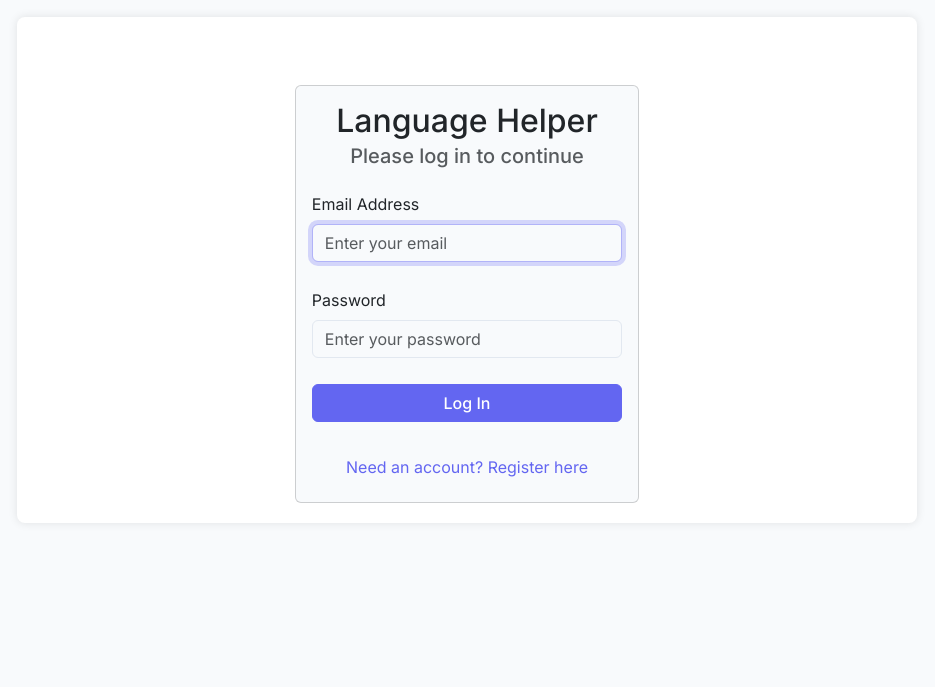
Test: Login Component › should show success message after successful registration
Note: Switch to registration mode
Click the button "Need an account? Register here" at (467, 467), box [333,448,601,486]
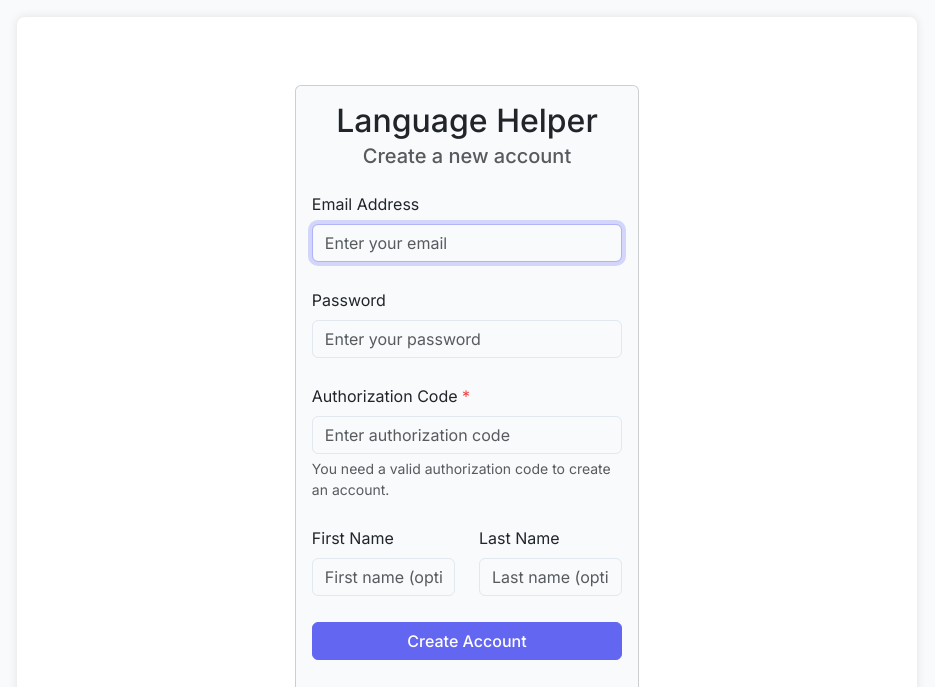
Note: Fill out the form
Type "test@example.com" into the field labelled "Email Address" at (467, 243), box [312,224,622,262]
Type "TestPassword123!" into the password field labelled "Password" at (467, 339), box [312,320,622,358]
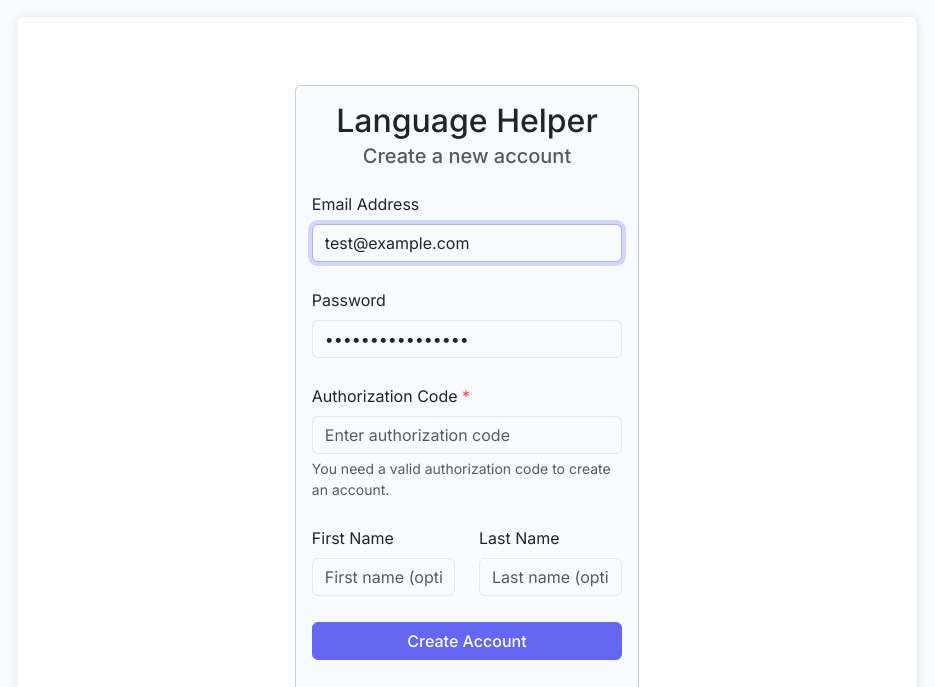
Type "test" into the field labelled "Authorization Code *" at (467, 435), box [312,416,622,454]
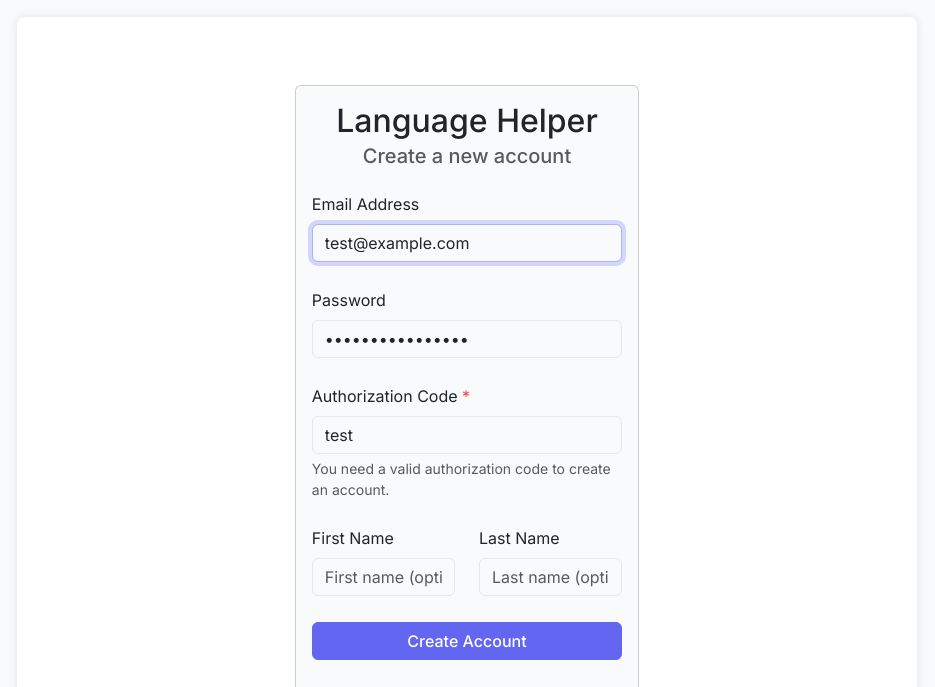
Type "Test" into the field labelled "First Name" at (383, 577), box [312,558,455,596]
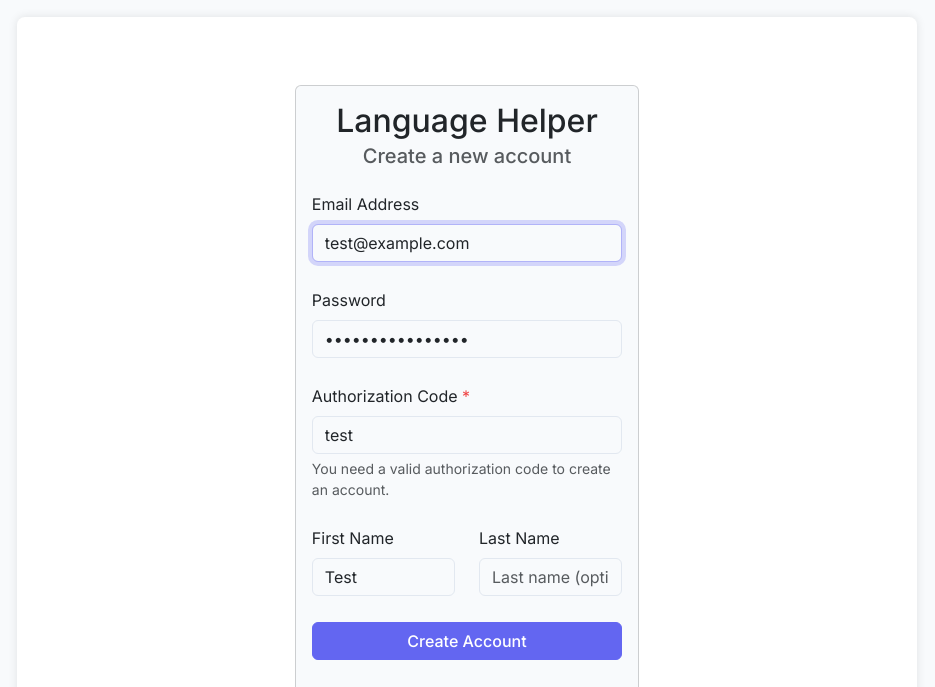
Type "User" into the field labelled "Last Name" at (551, 577), box [479,558,622,596]
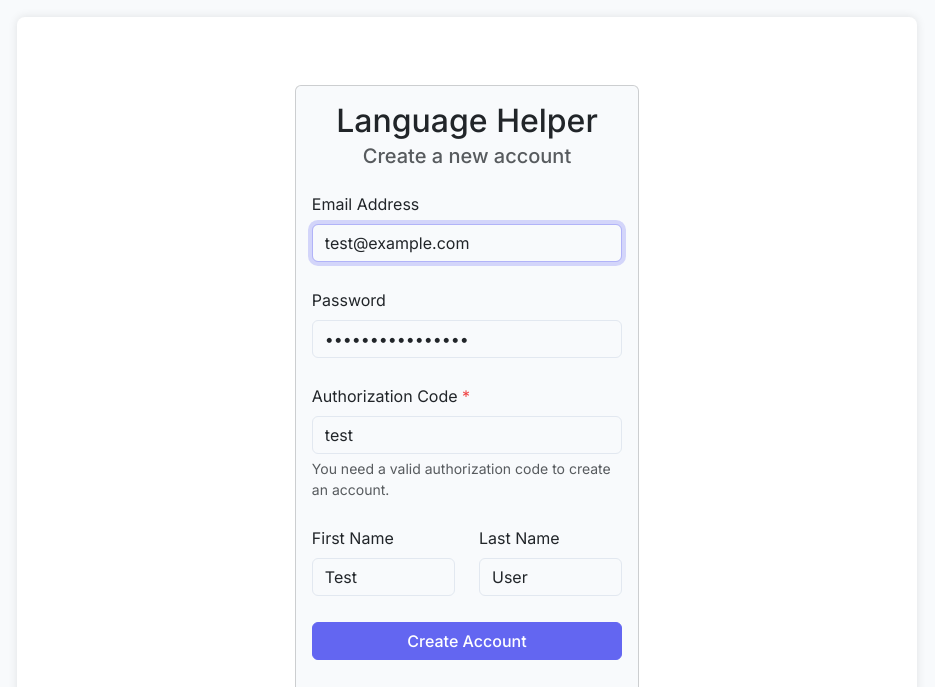
Note: Submit the form
Click the button "Create Account" at (467, 641), box [312,622,622,660]
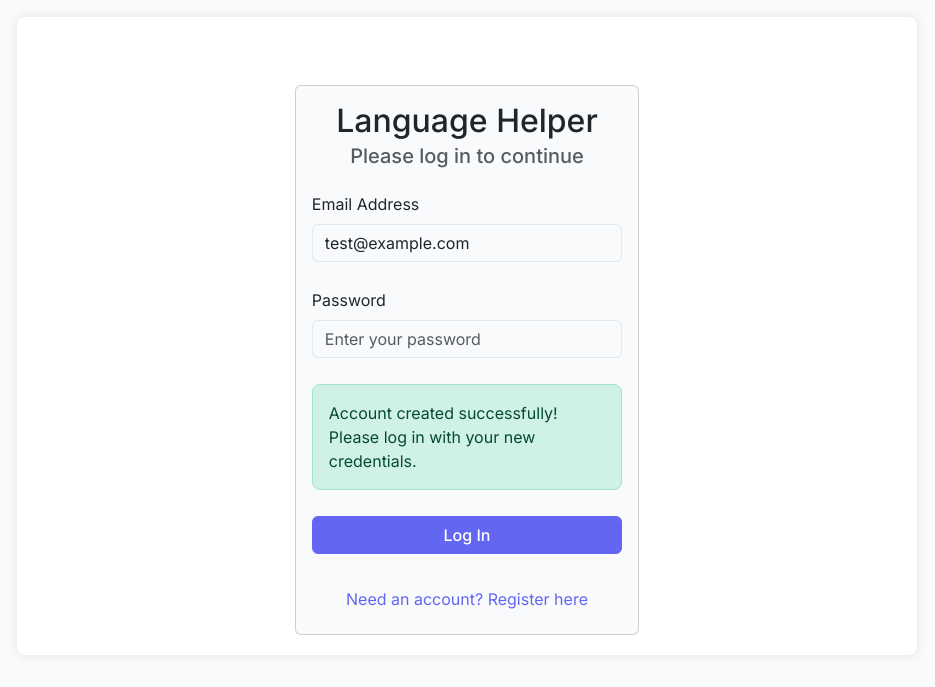
Now the text "Account created successfully! Please log in with your new credentials." is shown, box [312,384,622,490]
Now the heading "Please log in to continue" is shown, box [350,144,584,168]
